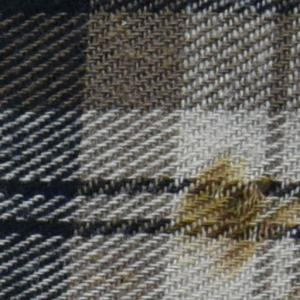Damage: (191, 160, 286, 244), (116, 275, 132, 289)
Oil Stain: (174, 147, 300, 282)
